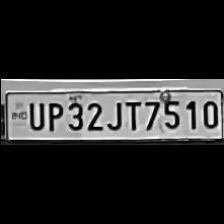0: (198, 97, 220, 129)
1: (182, 96, 198, 130)
2: (82, 98, 104, 132)
3: (64, 99, 82, 131)
5: (159, 96, 181, 130)
7: (140, 97, 158, 131)
J: (104, 97, 122, 130)
P: (42, 98, 62, 132)
T: (122, 97, 142, 130)
U: (24, 98, 44, 130)
